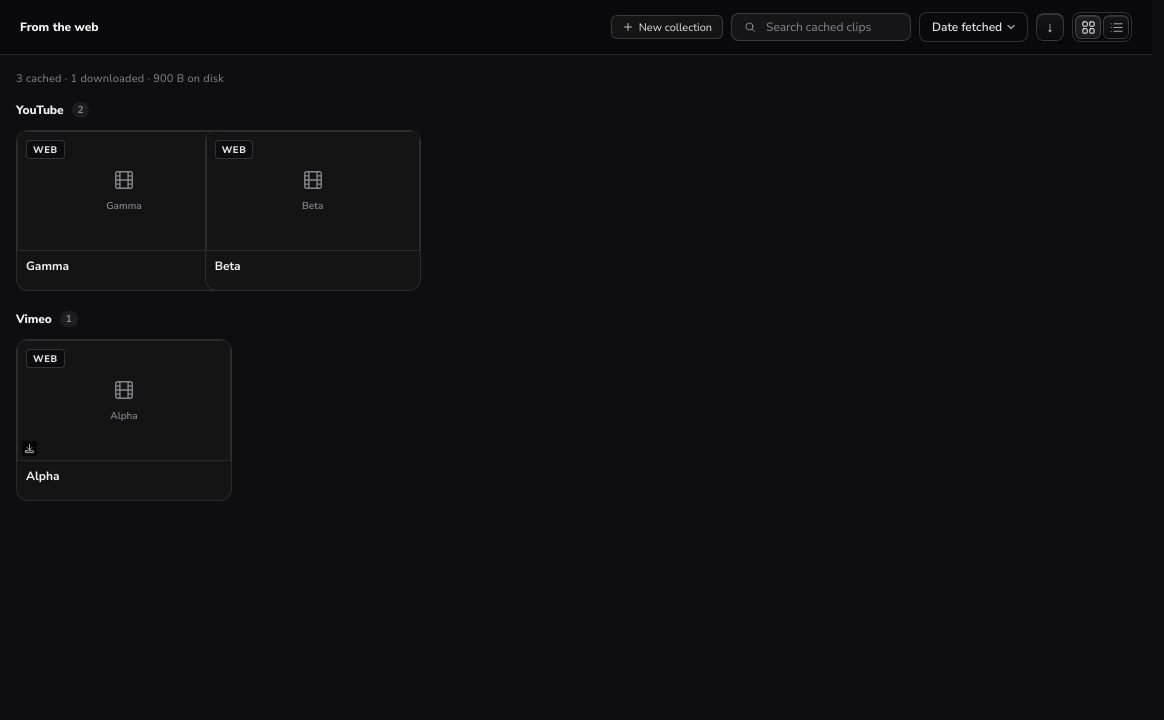
Test: CachedWebPane browser parity › switching to list view renders ONE table with sortable headers
The image size is (1164, 720).
Click the button named "List view": click(1116, 27) x1=1103 y1=15 x2=1129 y2=39
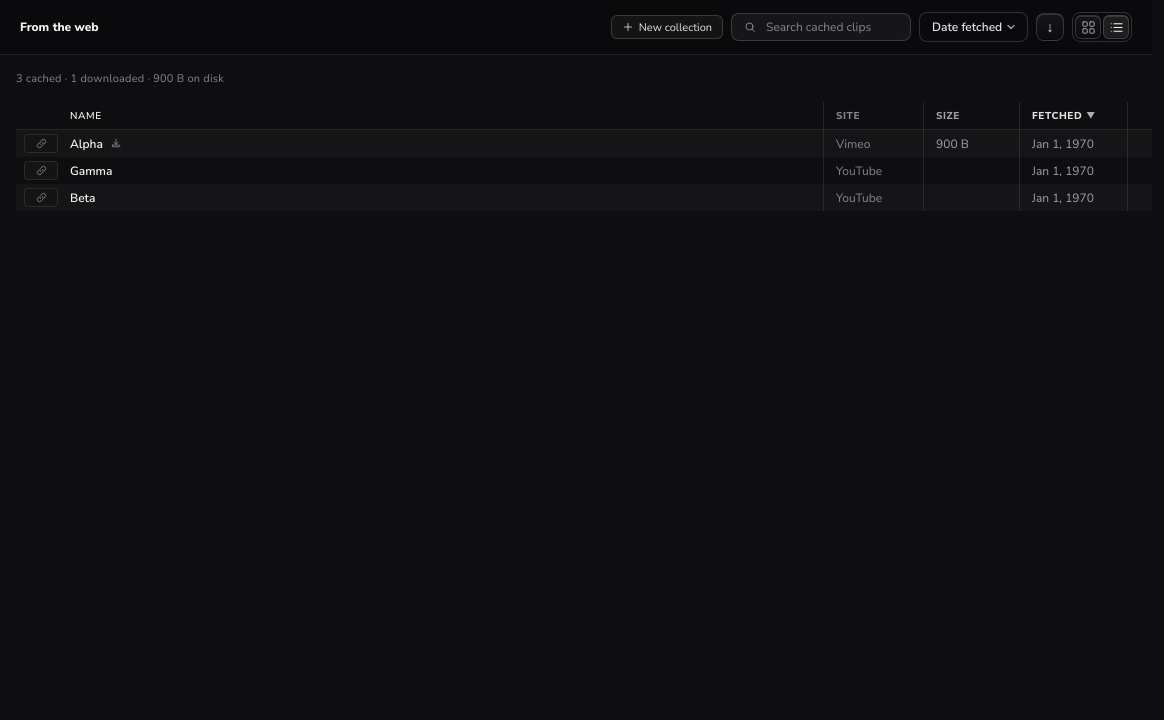
Now the number of elements with class "cp-lib-list-head" is 1, box x1=16 y1=102 x2=1152 y2=130
Now no headings with class "cp-web-shelf-head" are shown
